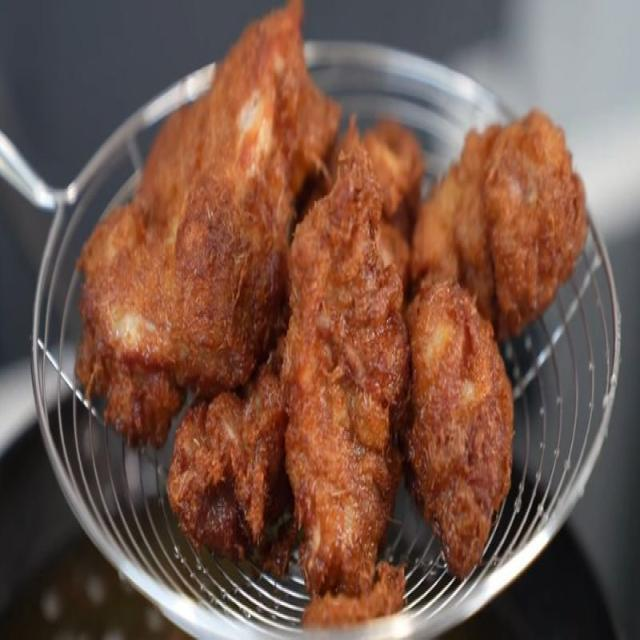ayam_goreng: (76, 0, 594, 572)
